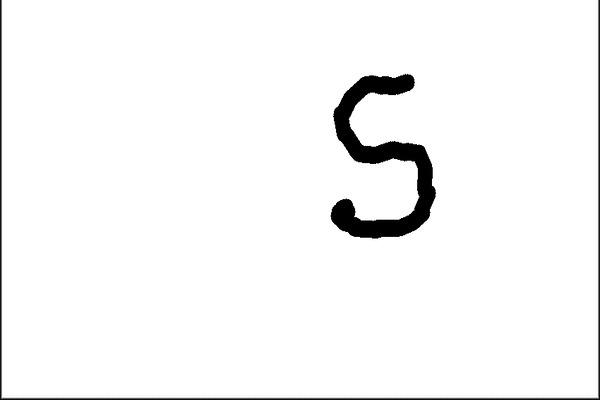S: (316, 70, 449, 244)
